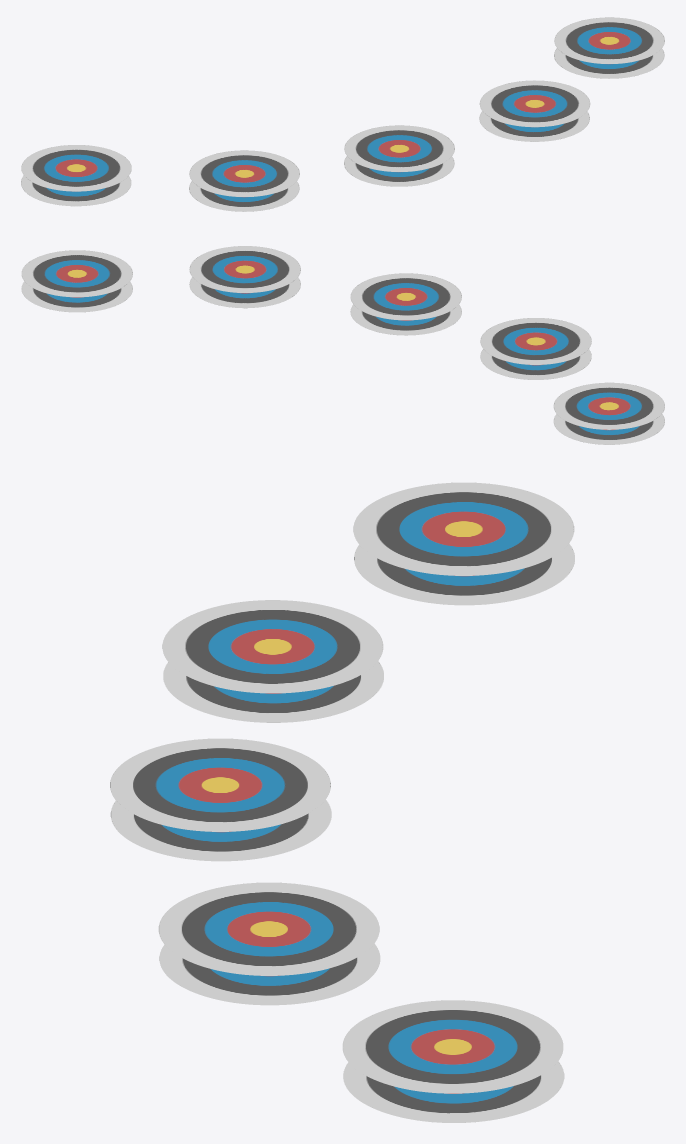
File: mato2.fbx
3 renders of one model, top to bottom at view 1: azimuth 30°, elevation 25°; view 2: azimuth 150°, elevation 25°; view 3: azimuth 270°, elevation 25°, orthographic. The views are drawn at different scales.
Visible parts, largest first — view 1: Cylinder.003, Cylinder.002, Cylinder.004, Cylinder.006, Cylinder.005; view 2: Cylinder.003, Cylinder.002, Cylinder.005, Cylinder.006, Cylinder.004; view 3: Cylinder.006, Cylinder.005, Cylinder.003, Cylinder.004, Cylinder.002.
Part boxes in pixels (left/top/right/bottom): Cylinder.003: left=344, top=125, right=454, bottom=186; Cylinder.002: left=554, top=17, right=664, bottom=78; Cylinder.004: left=189, top=150, right=299, bottom=211; Cylinder.006: left=479, top=80, right=590, bottom=141; Cylinder.005: left=21, top=145, right=131, bottom=206; Cylinder.003: left=350, top=273, right=461, bottom=335; Cylinder.002: left=21, top=250, right=132, bottom=312; Cylinder.005: left=553, top=382, right=664, bottom=444; Cylinder.006: left=189, top=246, right=300, bottom=308; Cylinder.004: left=480, top=318, right=591, bottom=379; Cylinder.006: left=158, top=882, right=380, bottom=1005; Cylinder.005: left=353, top=482, right=574, bottom=605; Cylinder.003: left=110, top=738, right=331, bottom=861; Cylinder.004: left=162, top=600, right=383, bottom=722; Cylinder.002: left=342, top=1000, right=564, bottom=1122.
Bounding box in the file's own units: 180 × 3.97 × 60.13.
